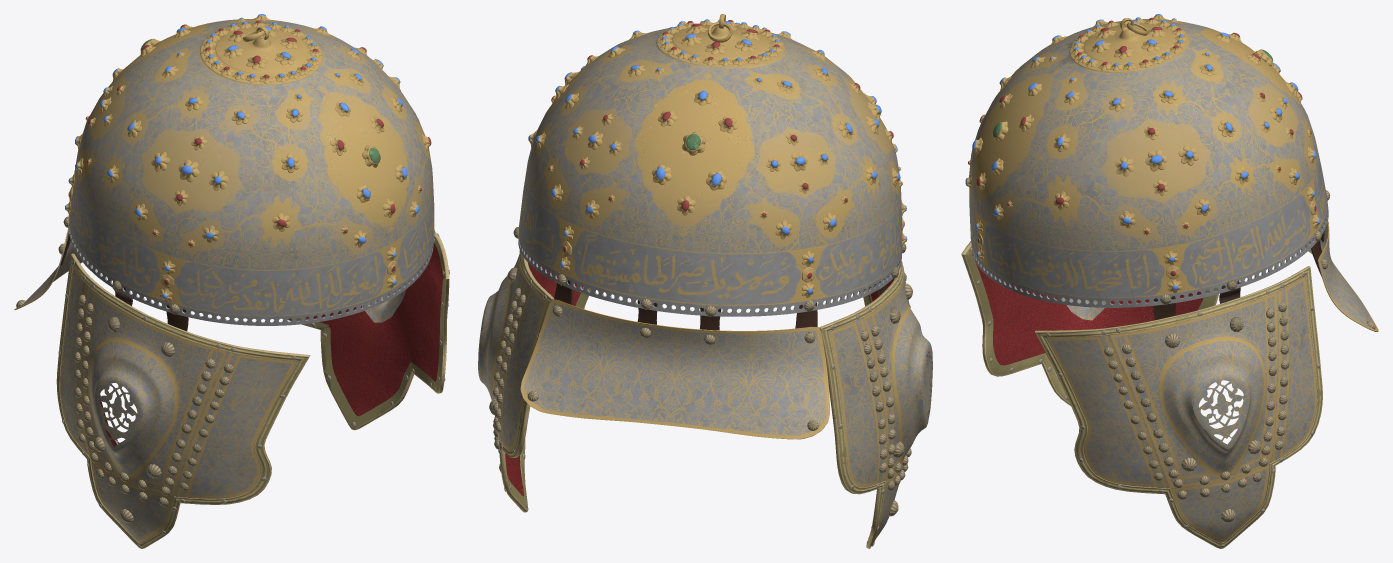
Rendered from Old_Islamic_Helmet.glb.
3 renders of one model, left to right at view 1: azimuth 30°, elevation 25°; view 2: azimuth 150°, elevation 25°; view 3: azimuth 270°, elevation 25°, orthographic. The views are drawn at different scales.
Visible parts, largest first — view 1: top holmet_top holmet_0_0, EAR PART_EAR PART_0_0, TEXT EAR PART_TEXT EAR PART_0_0, Jewels_Jewels_0_0, RED FABRIC_RED FABRIC_0_0, cooper frame_cooper frame_0_0, star nulls_star nulls_0_0, circal c_circal c_0, METAL BACK PART_METAL BACK PART_0_0, LETHAER_LETHAER_0_0, nulls_nulls_0; view 2: top holmet_top holmet_0_0, METAL BACK PART_METAL BACK PART_0_0, Jewels_Jewels_0_0, TEXT EAR PART_TEXT EAR PART_0_0, EAR PART_EAR PART_0_0, cooper frame_cooper frame_0_0, star nulls_star nulls_0_0, circal c_circal c_0, LETHAER_LETHAER_0_0, RED FABRIC_RED FABRIC_0_0; view 3: top holmet_top holmet_0_0, EAR PART_EAR PART_0_0, TEXT EAR PART_TEXT EAR PART_0_0, Jewels_Jewels_0_0, cooper frame_cooper frame_0_0, RED FABRIC_RED FABRIC_0_0, star nulls_star nulls_0_0, circal c_circal c_0, METAL BACK PART_METAL BACK PART_0_0, LETHAER_LETHAER_0_0, nulls_nulls_0.
Boxes of the visible parts, x1,y1,x2,y2 form: top holmet_top holmet_0_0: (68,19,434,316); EAR PART_EAR PART_0_0: (83,284,405,496); TEXT EAR PART_TEXT EAR PART_0_0: (60,265,410,542); Jewels_Jewels_0_0: (65,14,431,301); RED FABRIC_RED FABRIC_0_0: (100,243,443,446); cooper frame_cooper frame_0_0: (56,231,449,548); star nulls_star nulls_0_0: (16,216,233,522); circal c_circal c_0: (68,217,433,325); METAL BACK PART_METAL BACK PART_0_0: (14,229,82,310); LETHAER_LETHAER_0_0: (60,233,188,331); nulls_nulls_0: (58,233,449,547); top holmet_top holmet_0_0: (518,14,902,305); METAL BACK PART_METAL BACK PART_0_0: (520,299,829,439); Jewels_Jewels_0_0: (528,19,907,297); TEXT EAR PART_TEXT EAR PART_0_0: (498,282,903,539); EAR PART_EAR PART_0_0: (478,252,932,480); cooper frame_cooper frame_0_0: (499,252,904,548); star nulls_star nulls_0_0: (489,227,912,516); circal c_circal c_0: (518,233,902,316); LETHAER_LETHAER_0_0: (554,280,885,330); RED FABRIC_RED FABRIC_0_0: (505,263,894,496); top holmet_top holmet_0_0: (969,18,1327,298); EAR PART_EAR PART_0_0: (1062,292,1277,488); TEXT EAR PART_TEXT EAR PART_0_0: (1045,276,1317,542); Jewels_Jewels_0_0: (965,14,1320,293); cooper frame_cooper frame_0_0: (961,241,1322,548); RED FABRIC_RED FABRIC_0_0: (970,254,1203,381); star nulls_star nulls_0_0: (1104,190,1375,522); circal c_circal c_0: (971,204,1328,307); METAL BACK PART_METAL BACK PART_0_0: (1304,222,1378,331); LETHAER_LETHAER_0_0: (1153,231,1324,320); nulls_nulls_0: (965,246,1320,547).
Size of the model in its own units: 9.5 by 12 by 9.58.
Materials: 12 (12 with a texture image).
